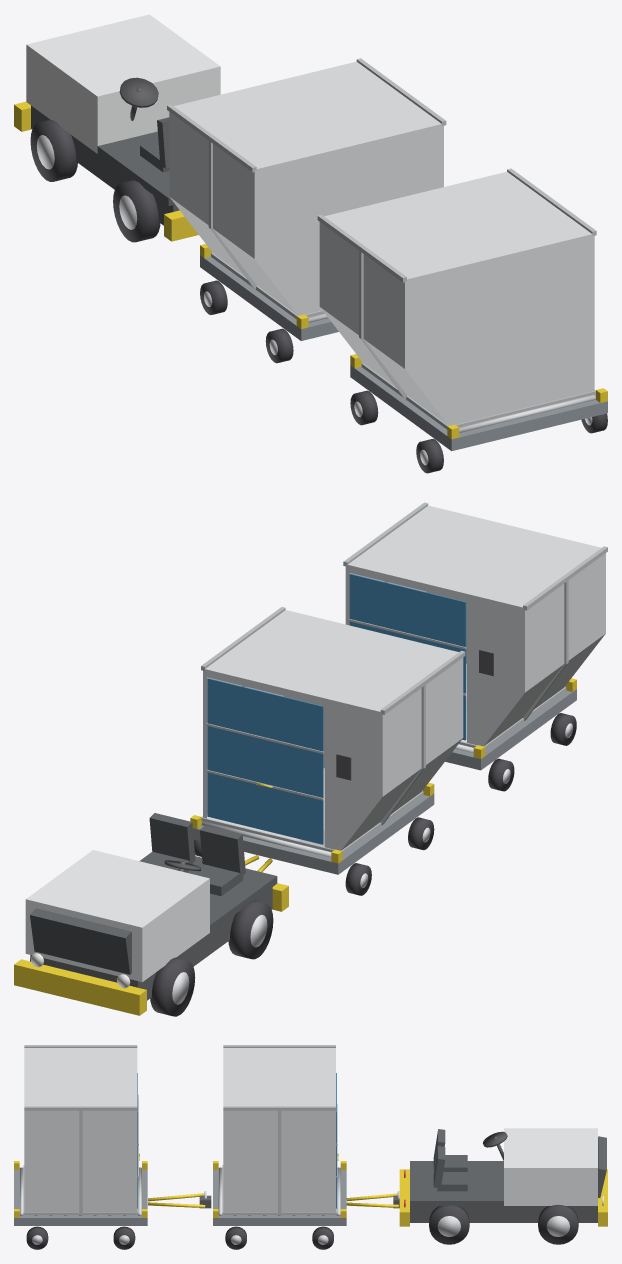
File: GSETowDollyULD.fbx
3 renders of one model, top to bottom at view 1: azimuth 30°, elevation 25°; view 2: azimuth 150°, elevation 25°; view 3: azimuth 270°, elevation 25°, orthographic. The views are drawn at different scales.
Visible parts, largest first — view 1: GSE_CargoDolly_With_ULD_02, GSE_CargoDolly_With_ULD_01, GSE_Tow_Tractor_2T; view 2: GSE_CargoDolly_With_ULD_01, GSE_CargoDolly_With_ULD_02, GSE_Tow_Tractor_2T; view 3: GSE_CargoDolly_With_ULD_01, GSE_CargoDolly_With_ULD_02, GSE_Tow_Tractor_2T.
Boxes of the visible parts, bbox=[...] form: GSE_CargoDolly_With_ULD_02: bbox=[317, 168, 607, 473]; GSE_CargoDolly_With_ULD_01: bbox=[167, 58, 446, 363]; GSE_Tow_Tractor_2T: bbox=[14, 14, 220, 242]; GSE_CargoDolly_With_ULD_01: bbox=[190, 607, 465, 895]; GSE_CargoDolly_With_ULD_02: bbox=[343, 502, 607, 791]; GSE_Tow_Tractor_2T: bbox=[14, 813, 288, 1016]; GSE_CargoDolly_With_ULD_01: bbox=[199, 1045, 398, 1249]; GSE_CargoDolly_With_ULD_02: bbox=[14, 1045, 205, 1249]; GSE_Tow_Tractor_2T: bbox=[393, 1128, 607, 1244].
Bounding box in the file's own units: 218 × 211 × 822.
